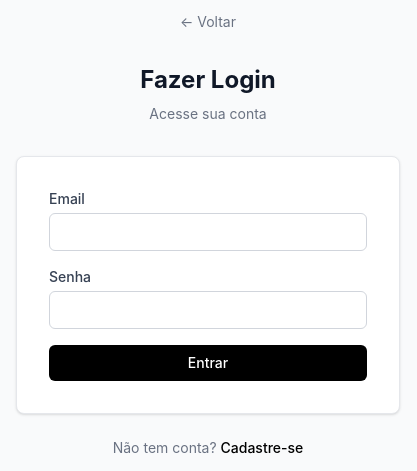
Scenario: Login Page › disables submit button while loading
In the field: (208, 232) x1=49 y1=213 x2=367 y2=251, type "admin@test.com"
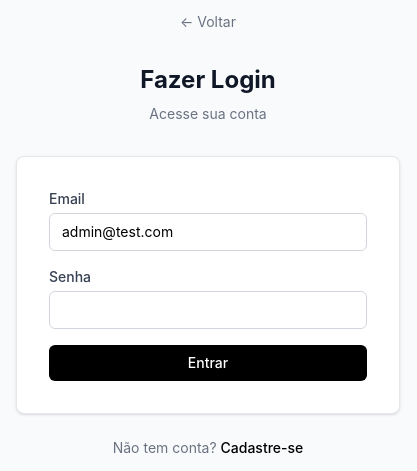
In the password field: (208, 310) x1=49 y1=291 x2=367 y2=329, type "123456"
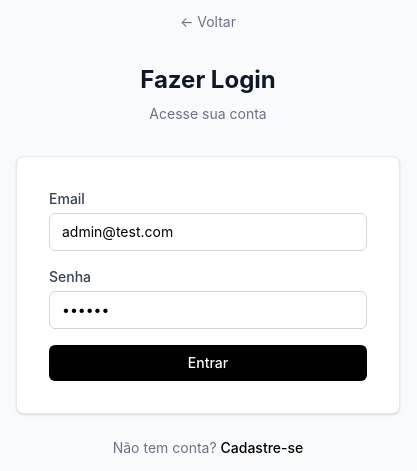
Click the button "Entrar": (208, 363) x1=49 y1=345 x2=367 y2=381
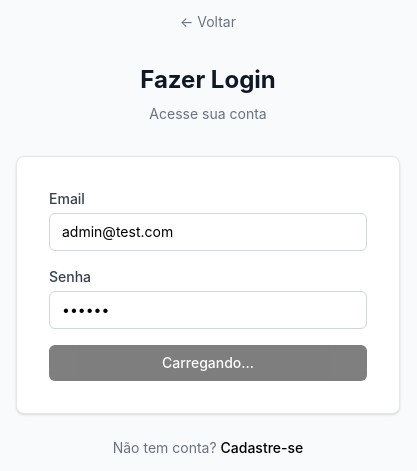
Expected: the button "Entrar" is disabled, x1=49 y1=345 x2=367 y2=381
